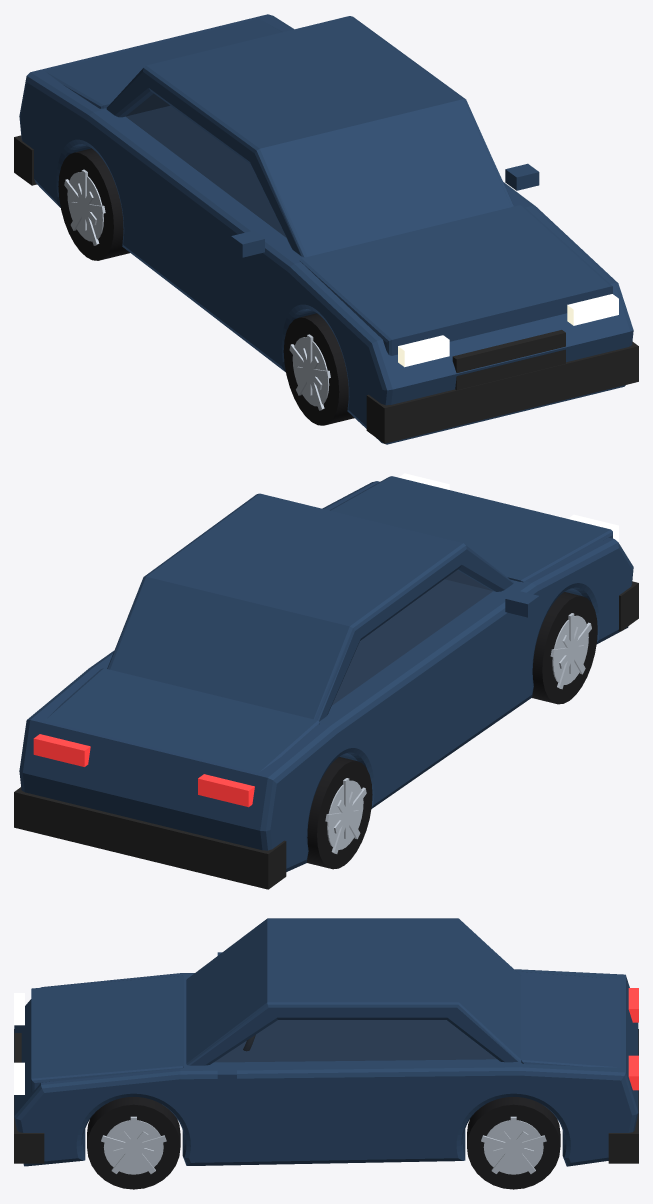
The model's file is Sedan.glb.
3 views of the same model, one above another, from view 1: azimuth 30°, elevation 25°; view 2: azimuth 150°, elevation 25°; view 3: azimuth 270°, elevation 25° (orthographic). The views are drawn at different scales.
Visible parts, largest first — view 1: BodyRoofPanel, BodyPanels, BodyHood, BodyFrontBumper, BodyWindshield, BodyRearPanels, TireRearR, TireFrontR, BodyFrontGrille, BodyHeadlightR, BodyHeadlightL, WheelRearRRim (+4 smaller); view 2: BodyPanels, BodyRoofPanel, BodyRearPanels, BodyHood, BodyRearBumper, BodyWindshield, TireFrontR, TireRearR, BodyTaillightL, BodyTaillightR, WheelFrontRRim, WheelRearRRim (+2 smaller); view 3: BodyPanels, BodyRoofPanel, BodyHood, BodyWindshield, BodyRearPanels, TireRearL, TireFrontL, WheelRearLRim, WheelFrontLRim, BodyRearBumper, BodyFrontBumper, BodyDoorLMirror.
Boxes of the visible parts, x1,y1,x2,y2 form: BodyRoofPanel: [106, 16, 513, 257]; BodyPanels: [19, 14, 633, 444]; BodyHood: [299, 205, 612, 355]; BodyFrontBumper: [366, 341, 638, 443]; BodyWindshield: [126, 94, 285, 236]; BodyRearPanels: [45, 19, 282, 108]; TireRearR: [58, 148, 129, 260]; TireFrontR: [283, 313, 354, 425]; BodyFrontGrille: [452, 330, 565, 390]; BodyHeadlightR: [398, 335, 449, 367]; BodyHeadlightL: [567, 294, 618, 325]; WheelRearRRim: [67, 172, 103, 241]; BodyPanels: [19, 481, 633, 871]; BodyRoofPanel: [107, 493, 513, 721]; BodyRearPanels: [45, 668, 319, 772]; BodyHood: [330, 476, 612, 582]; BodyRearBumper: [14, 787, 286, 889]; BodyWindshield: [332, 570, 492, 705]; TireFrontR: [532, 592, 597, 704]; TireRearR: [306, 756, 372, 869]; BodyTaillightL: [33, 734, 90, 766]; BodyTaillightR: [198, 774, 254, 807]; WheelFrontRRim: [552, 615, 588, 684]; WheelRearRRim: [327, 780, 363, 849]; BodyPanels: [14, 969, 638, 1166]; BodyRoofPanel: [186, 918, 521, 1065]; BodyHood: [31, 975, 183, 1092]; BodyWindshield: [214, 1020, 496, 1062]; BodyRearPanels: [521, 971, 620, 1067]; TireRearL: [467, 1097, 560, 1189]; TireFrontL: [87, 1097, 180, 1189]; WheelRearLRim: [483, 1120, 543, 1174]; WheelFrontLRim: [103, 1120, 163, 1174]; BodyRearBumper: [608, 1029, 638, 1163]; BodyFrontBumper: [14, 1029, 44, 1163]; BodyDoorLMirror: [217, 1065, 236, 1085].
Bounding box in the file's own units: 2.1 × 1.41 × 4.54.
